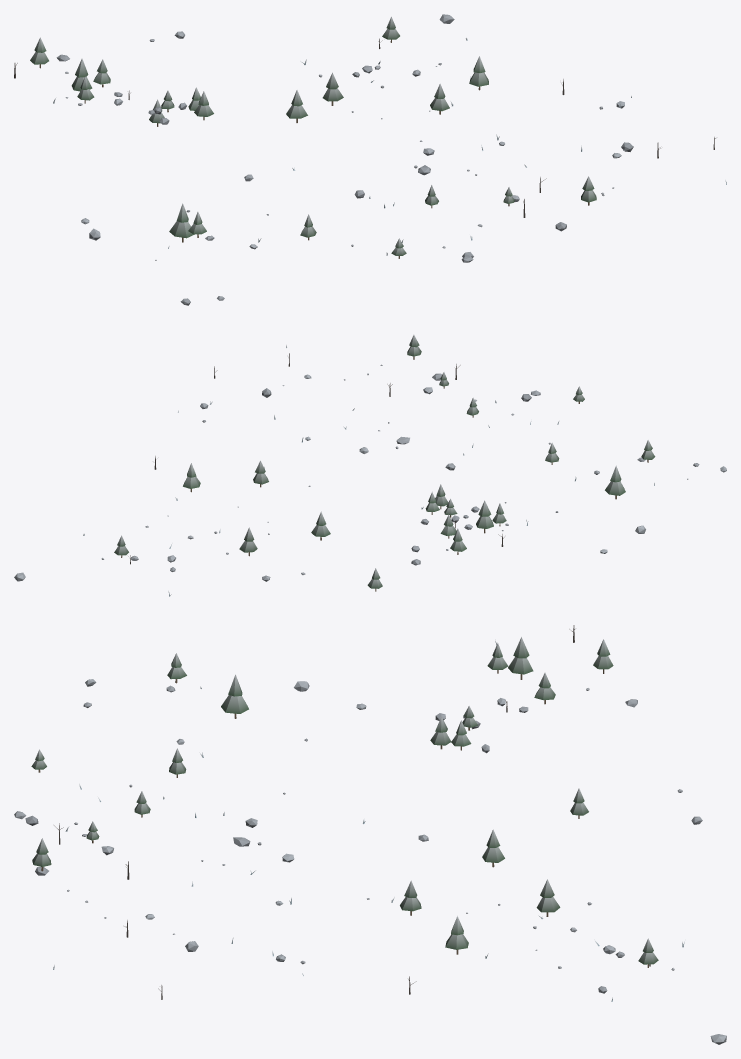
Rendered from frost_land_scatter_c17_10_lod1.glb.
3 renders of one model, top to bottom at view 1: azimuth 30°, elevation 25°; view 2: azimuth 150°, elevation 25°; view 3: azimuth 270°, elevation 25°, orthographic. The views are drawn at different scales.
Visible parts, largest first — view 1: frost_land_scatter_c17_10_lod1; view 2: frost_land_scatter_c17_10_lod1; view 3: frost_land_scatter_c17_10_lod1.
Part boxes in pixels (bbox=[...]): frost_land_scatter_c17_10_lod1: bbox=[14, 14, 726, 305]; frost_land_scatter_c17_10_lod1: bbox=[14, 335, 726, 596]; frost_land_scatter_c17_10_lod1: bbox=[14, 625, 726, 1044].
Size of the model in its own units: 239 by 56.25 by 231.
